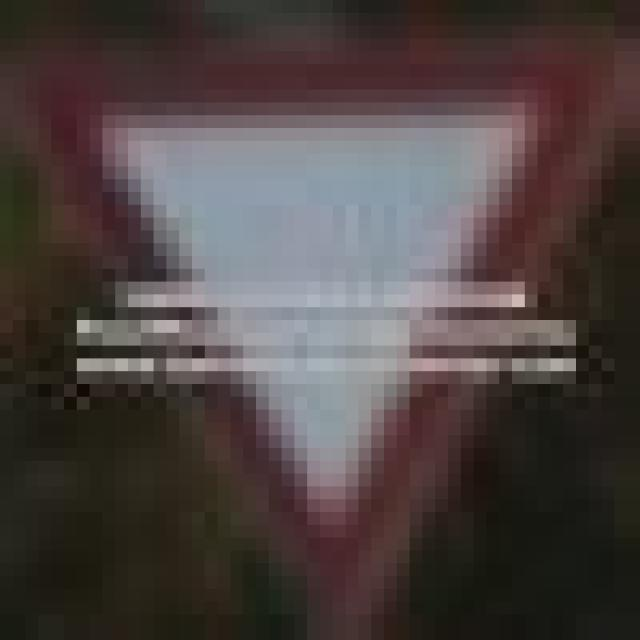gap_in_median: (0, 38, 627, 614)
